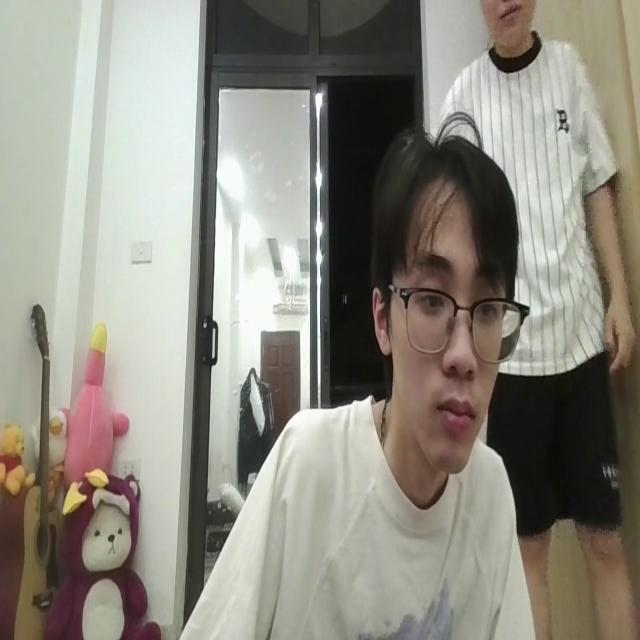extra_person: (456, 0, 639, 640)
student: (143, 120, 534, 640)
